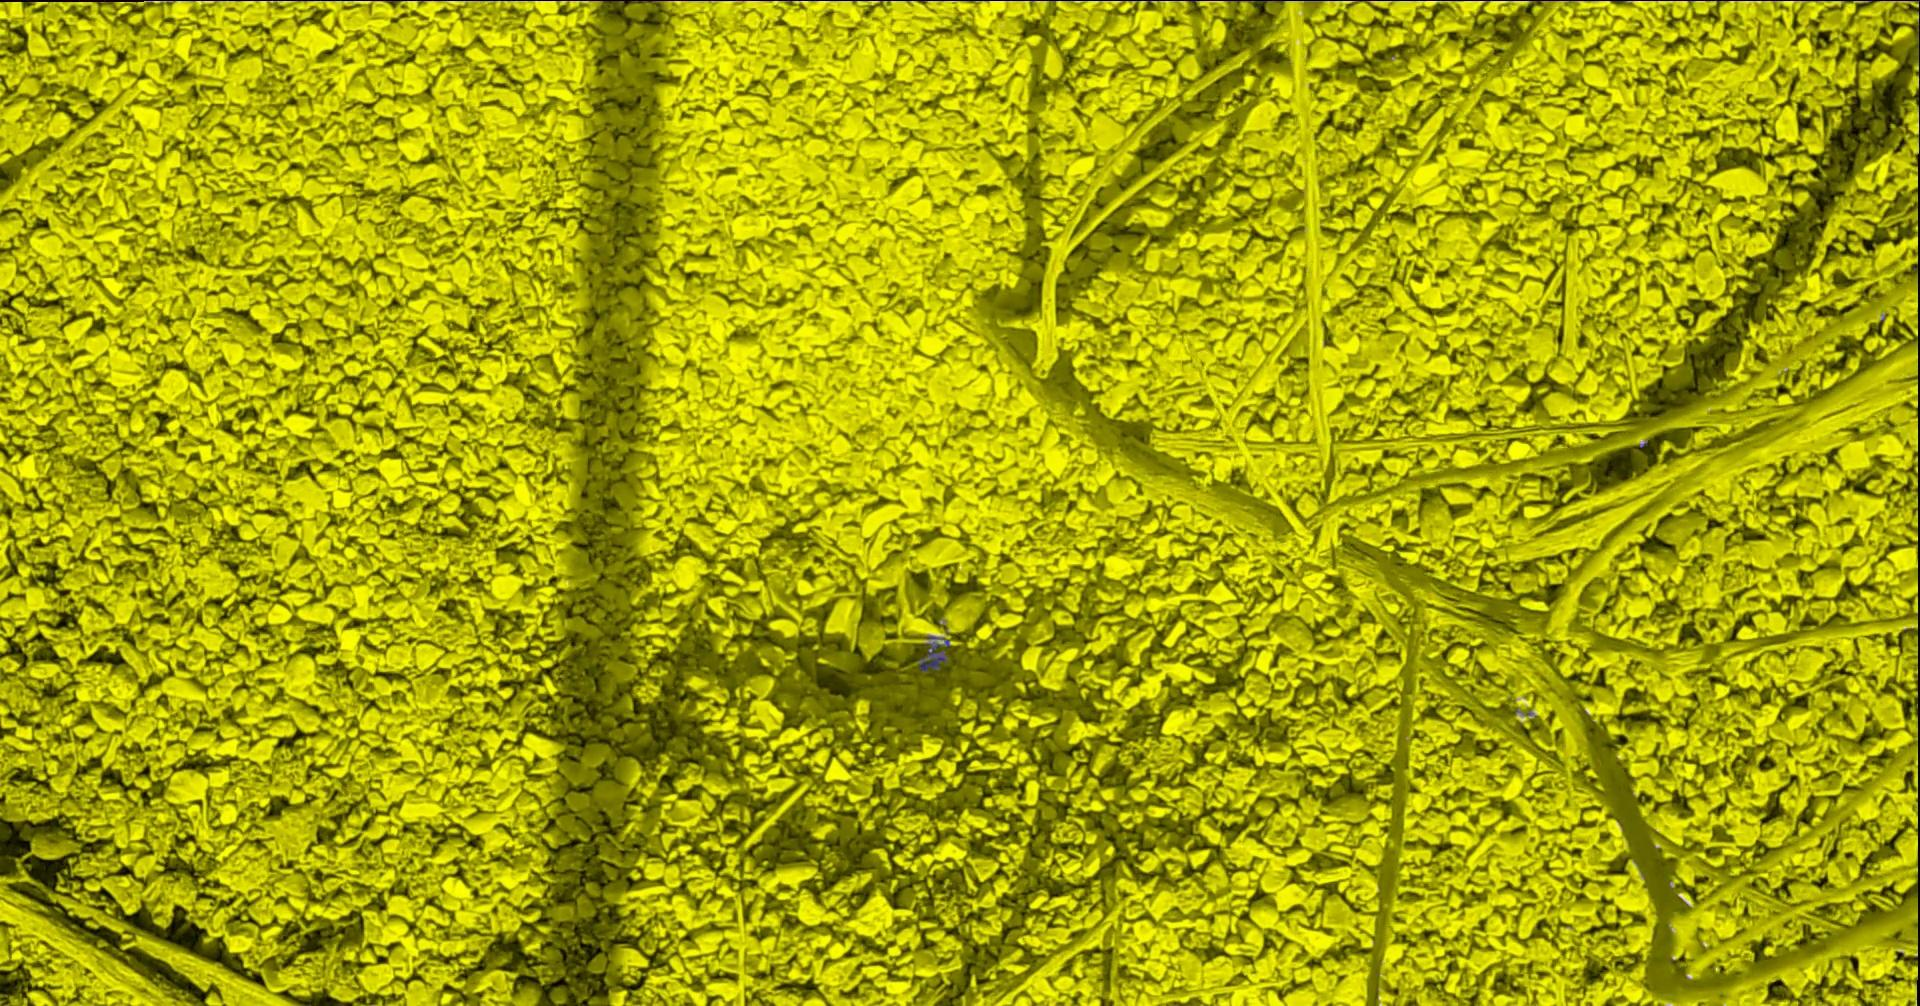ant: (917, 635, 950, 671)
